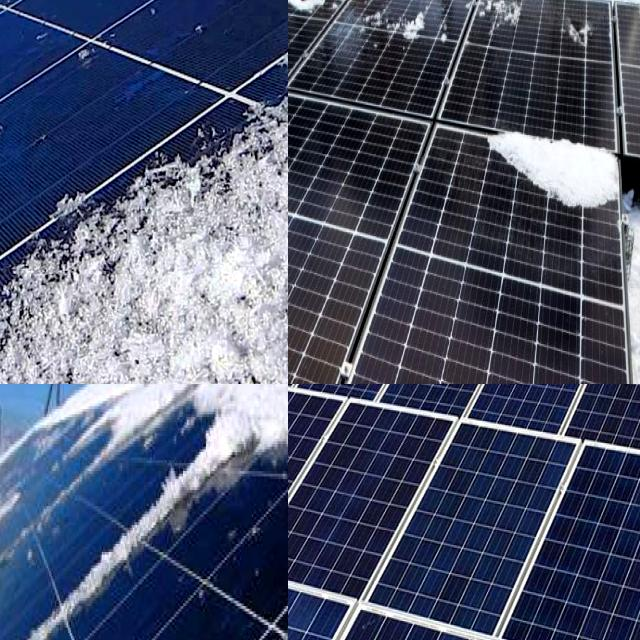crack: (288, 384, 640, 640), (425, 396, 604, 620), (445, 442, 640, 640)
panel: (117, 71, 288, 384), (486, 110, 621, 250), (0, 114, 67, 384), (0, 215, 101, 384), (84, 498, 178, 578), (0, 0, 84, 73), (69, 384, 145, 464), (359, 0, 459, 60), (154, 431, 242, 497), (0, 0, 109, 49), (257, 384, 288, 524), (0, 84, 59, 140), (459, 0, 531, 45), (188, 384, 252, 423), (0, 430, 43, 479), (288, 0, 349, 32), (560, 16, 596, 68), (0, 545, 26, 612), (0, 488, 33, 531)
